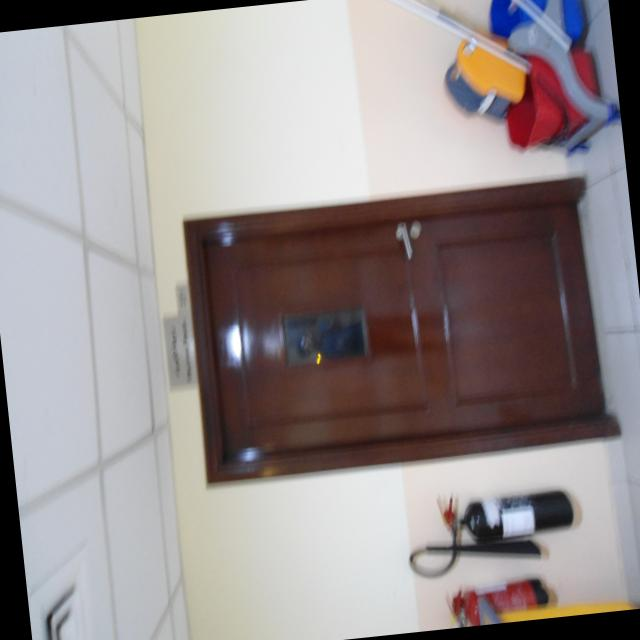cleaningCart: (376, 0, 624, 181), (455, 579, 640, 627)
door: (174, 168, 637, 488)
fireExt: (398, 481, 596, 586), (444, 576, 562, 622)
